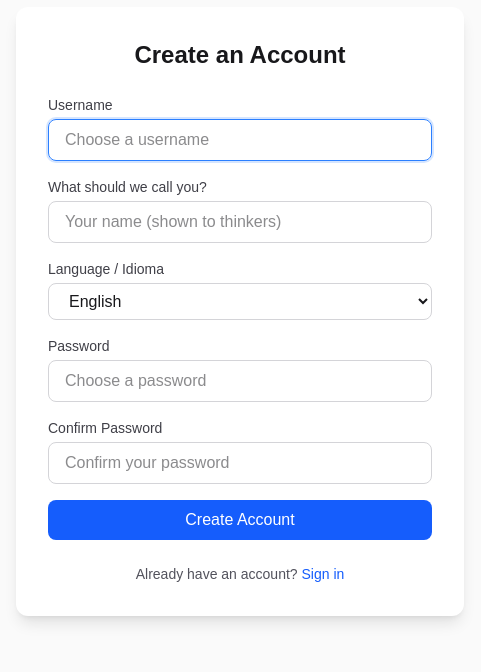
Scenario: RegisterPage › shows error for short password
In the field labelled "Username": [240, 140] box [48,118,432,160], type "newuser"
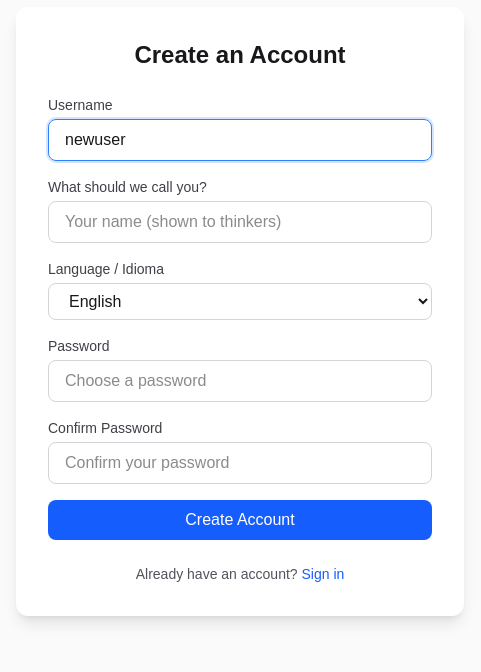
In the field labelled "What should we call you?": [240, 222] box [48,200,432,242], type "New User"
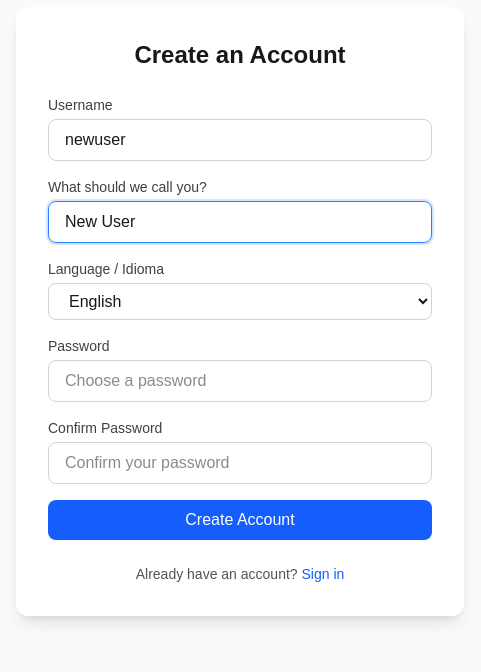
In the password field labelled "Password": [240, 380] box [48,360,432,402], type "12345"
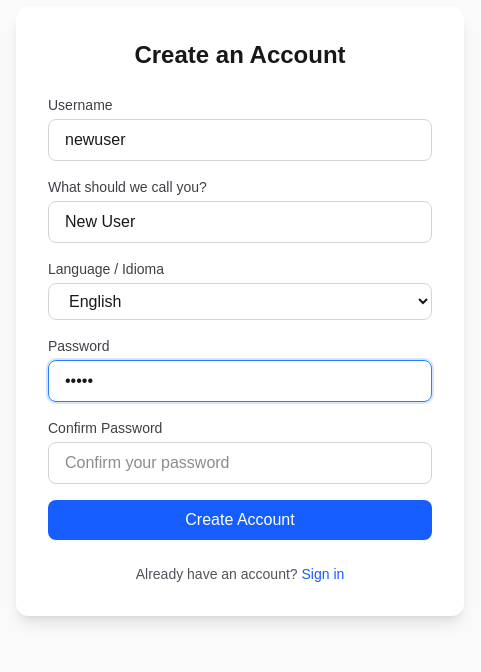
In the password field labelled "Confirm Password": [240, 462] box [48,442,432,484], type "12345"
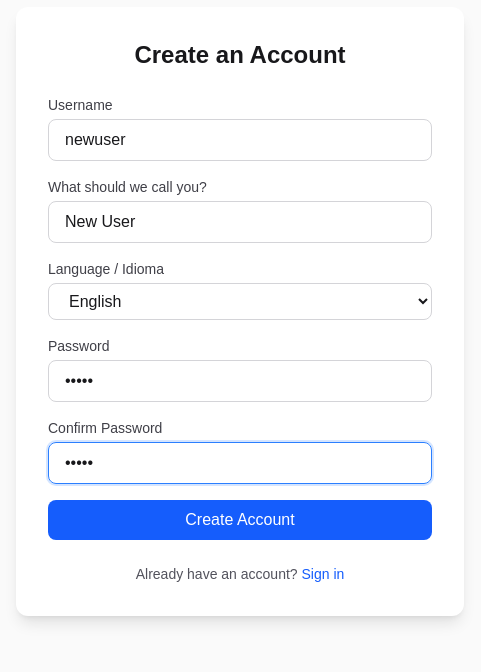
Click the button "Create Account": [240, 520] box [48,500,432,540]
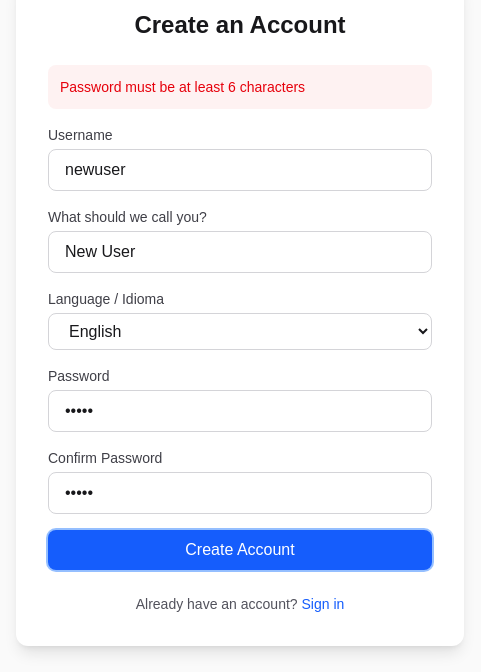
Expected: the text "Password must be at least 6 characters" is shown, [48,64,432,108]
